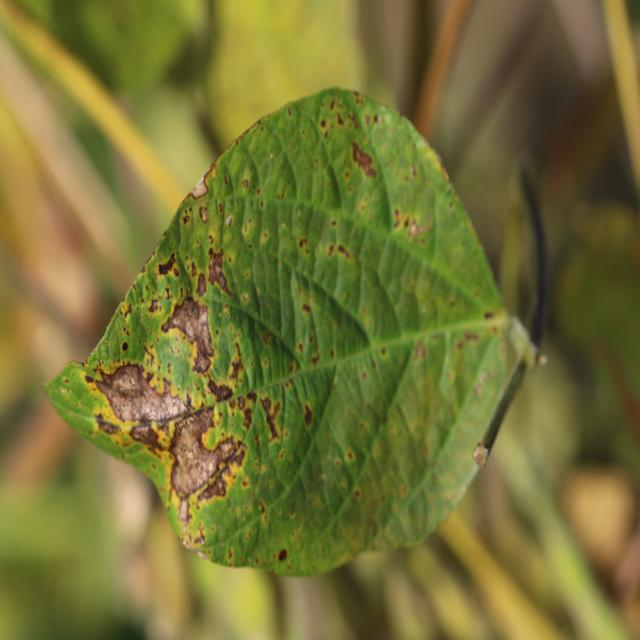Bacterial_Blight: (206, 371, 248, 429), (212, 229, 231, 322), (106, 364, 147, 400), (394, 205, 430, 242), (258, 394, 282, 442), (128, 423, 168, 449), (350, 141, 377, 177), (202, 471, 228, 500), (156, 252, 178, 278), (95, 418, 124, 437), (177, 496, 191, 530), (473, 369, 492, 393), (472, 442, 489, 467), (191, 178, 208, 199), (195, 272, 207, 297), (413, 340, 427, 361), (143, 345, 156, 367), (194, 547, 211, 562), (303, 403, 313, 428), (463, 329, 480, 342), (392, 208, 402, 229), (148, 298, 161, 314), (337, 244, 351, 258), (121, 302, 132, 319), (298, 236, 309, 252), (169, 382, 179, 399), (194, 533, 206, 546), (199, 206, 208, 223), (84, 373, 95, 385), (278, 548, 287, 562), (284, 377, 293, 391), (182, 210, 190, 225), (484, 310, 496, 320), (345, 450, 355, 462), (224, 214, 233, 227), (336, 112, 344, 126), (301, 302, 311, 313), (411, 163, 418, 178), (277, 188, 285, 200), (311, 353, 319, 365), (258, 501, 266, 513), (354, 489, 362, 500), (371, 357, 377, 370), (242, 178, 249, 189), (121, 341, 128, 352), (320, 118, 327, 128), (380, 347, 387, 357), (262, 231, 269, 241), (334, 458, 341, 468), (262, 358, 269, 368), (373, 113, 379, 124), (290, 508, 296, 519), (208, 234, 214, 244), (60, 386, 66, 396), (331, 219, 337, 227), (269, 152, 274, 160)
Soybean: (46, 89, 540, 575)
